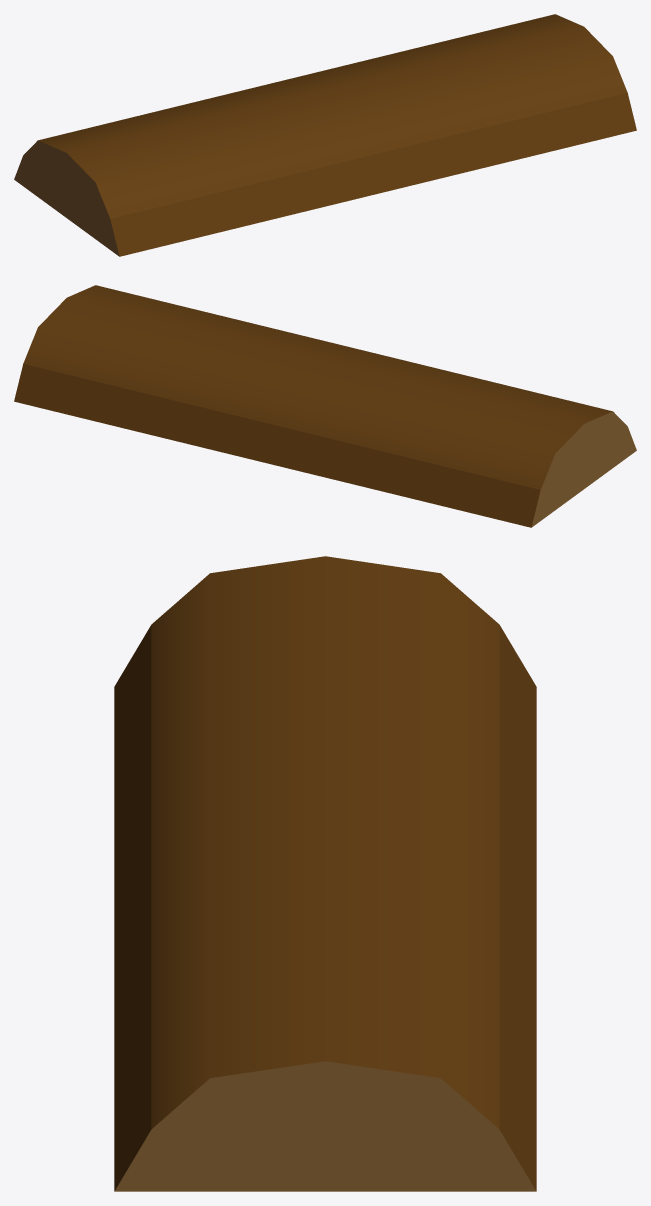
File: Wood.FBX
The picture shows the model from 3 angles, top to bottom: view 1: azimuth 30°, elevation 25°; view 2: azimuth 150°, elevation 25°; view 3: azimuth 270°, elevation 25°; orthographic projection. The views are drawn at different scales.
Parts seen in each view (by area): view 1: Box001; view 2: Box001; view 3: Box001.
Part boxes in pixels (x1=…): Box001: x1=14, y1=14, x2=636, y2=256; Box001: x1=14, y1=285, x2=636, y2=527; Box001: x1=114, y1=556, x2=536, y2=1191.
Bounding box in the file's own units: 110 × 13.25 × 38.83.
